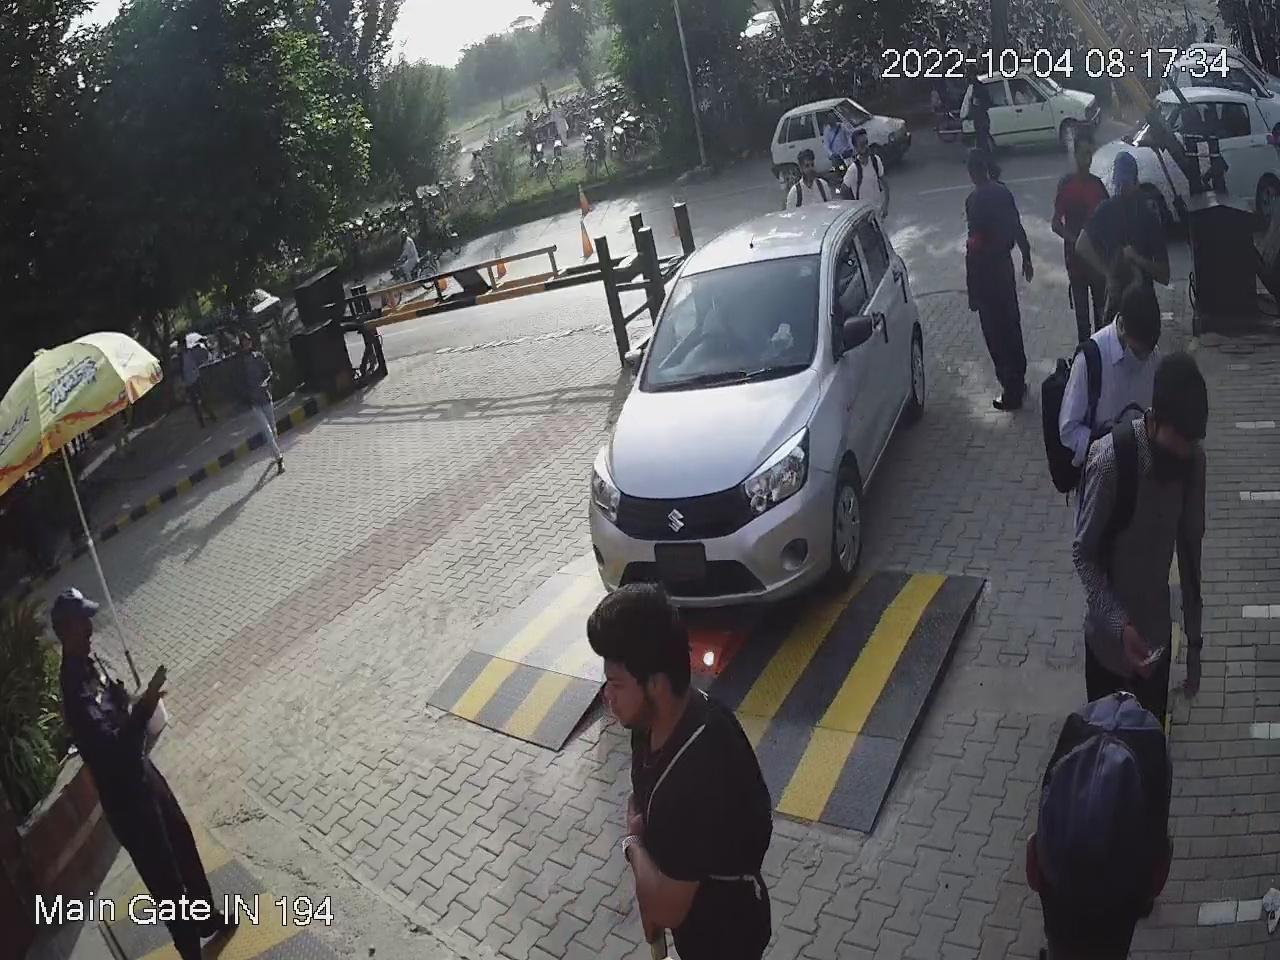windshield: (638, 250, 827, 397)
